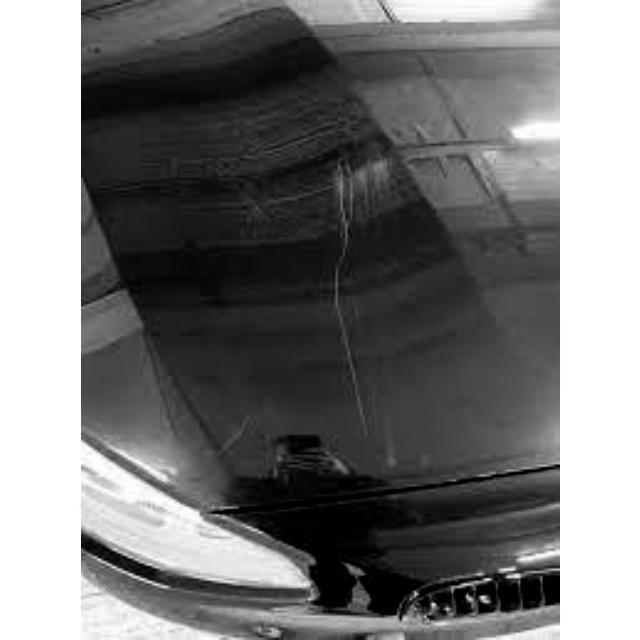bonnet-dent: (80, 1, 556, 552)
